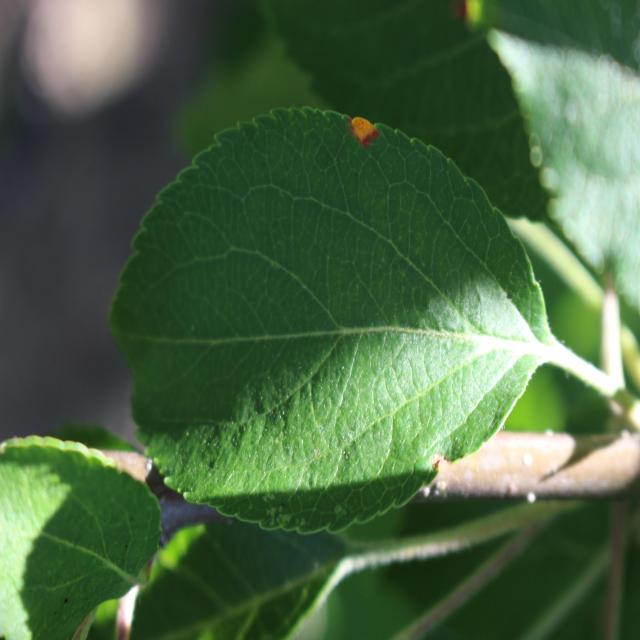Rust: (326, 93, 389, 161)
